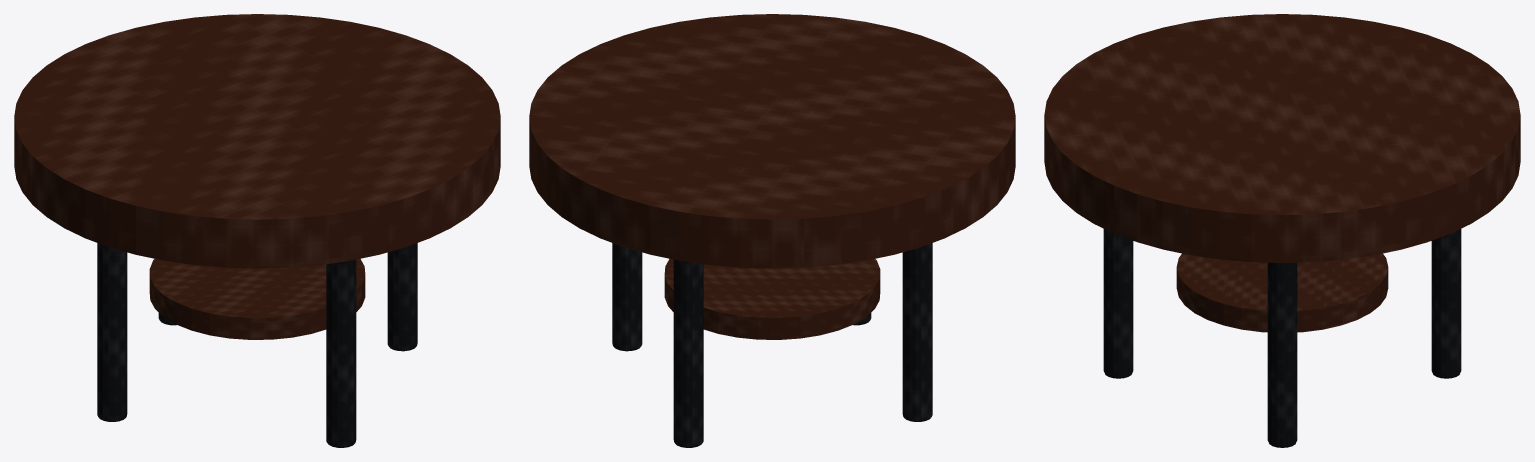
Rendered from round-coffee-table-pbr-v1.glb.
3 views of the same model, side by side, from view 1: azimuth 30°, elevation 25°; view 2: azimuth 150°, elevation 25°; view 3: azimuth 270°, elevation 25° (orthographic). The views are drawn at different scales.
Visible parts, largest first — view 1: round-coffee-top, round-coffee-lower-shelf, round-coffee-leg.003, round-coffee-leg.002, round-coffee-leg; view 2: round-coffee-top, round-coffee-lower-shelf, round-coffee-leg.001, round-coffee-leg.002, round-coffee-leg; view 3: round-coffee-top, round-coffee-lower-shelf, round-coffee-leg, round-coffee-leg.001, round-coffee-leg.003.
Part boxes in pixels (x1,y1,x2,y2): round-coffee-top: [14, 14, 500, 268]; round-coffee-lower-shelf: [149, 258, 365, 339]; round-coffee-leg.003: [326, 259, 356, 447]; round-coffee-leg.002: [97, 243, 127, 421]; round-coffee-leg: [387, 243, 417, 351]; round-coffee-top: [529, 14, 1015, 268]; round-coffee-lower-shelf: [664, 258, 880, 339]; round-coffee-leg.001: [673, 259, 703, 447]; round-coffee-leg.002: [902, 243, 932, 421]; round-coffee-leg: [612, 243, 642, 351]; round-coffee-top: [1044, 14, 1520, 262]; round-coffee-lower-shelf: [1176, 253, 1388, 332]; round-coffee-leg: [1267, 262, 1297, 447]; round-coffee-leg.001: [1431, 229, 1461, 378]; round-coffee-leg.003: [1103, 229, 1133, 378].
Bounding box in the file's own units: 0.9 × 0.54 × 0.9.
Materials: 2 (2 with a texture image).
